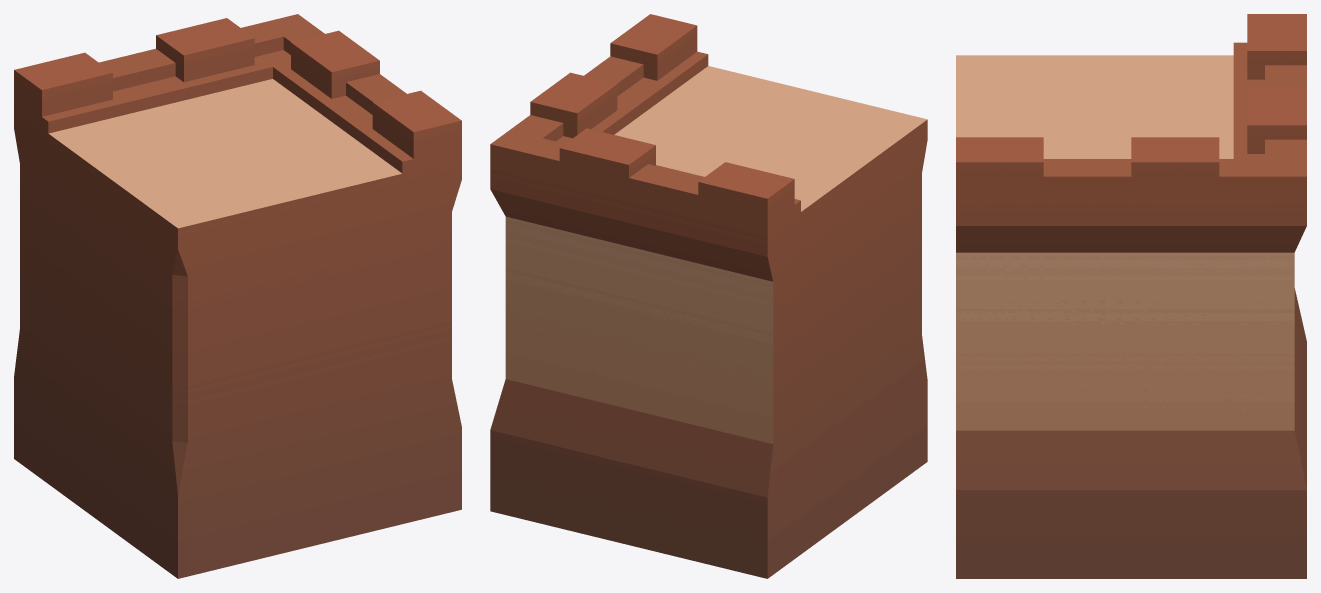
Rendered from wall-corner-half.glb.
The picture shows the model from 3 angles, left to right: view 1: azimuth 30°, elevation 25°; view 2: azimuth 150°, elevation 25°; view 3: azimuth 270°, elevation 25°; orthographic projection. The views are drawn at different scales.
Parts seen in each view (by area): view 1: wall-corner-half; view 2: wall-corner-half; view 3: wall-corner-half.
Part boxes in pixels (bbox=[...]): wall-corner-half: bbox=[14, 14, 461, 578]; wall-corner-half: bbox=[490, 14, 927, 578]; wall-corner-half: bbox=[956, 14, 1306, 578].
Size of the model in its own units: 3 by 3.93 by 3.
Materials: 1 (1 with a texture image).
